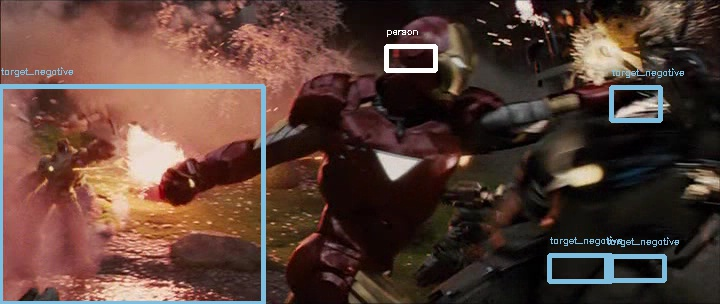person: (397, 18, 472, 98), (396, 18, 471, 98), (398, 18, 473, 98), (397, 17, 472, 97), (397, 19, 472, 99)
target_negative: (190, 110, 426, 247), (43, 127, 641, 153), (383, 104, 574, 182), (253, 210, 314, 268), (366, 170, 596, 181), (55, 287, 633, 288)
